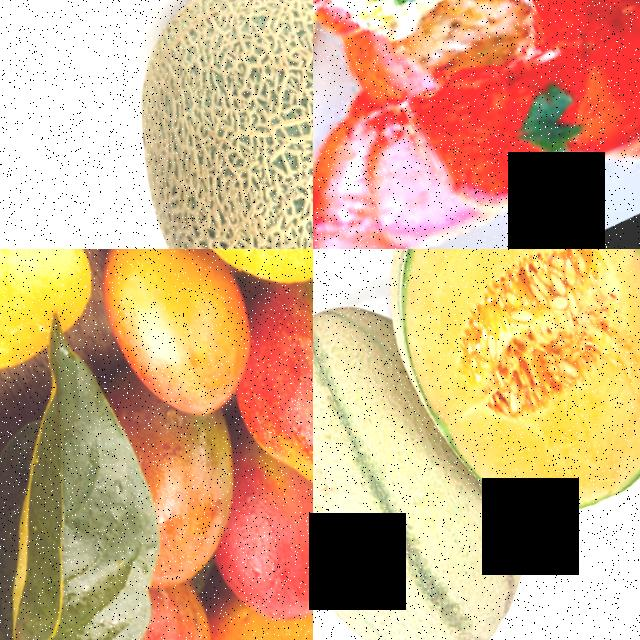lobster tails: (313, 0, 640, 249)
mango: (71, 249, 275, 437), (221, 321, 313, 549)
melon: (344, 249, 640, 548), (313, 284, 531, 640), (46, 0, 313, 249)
